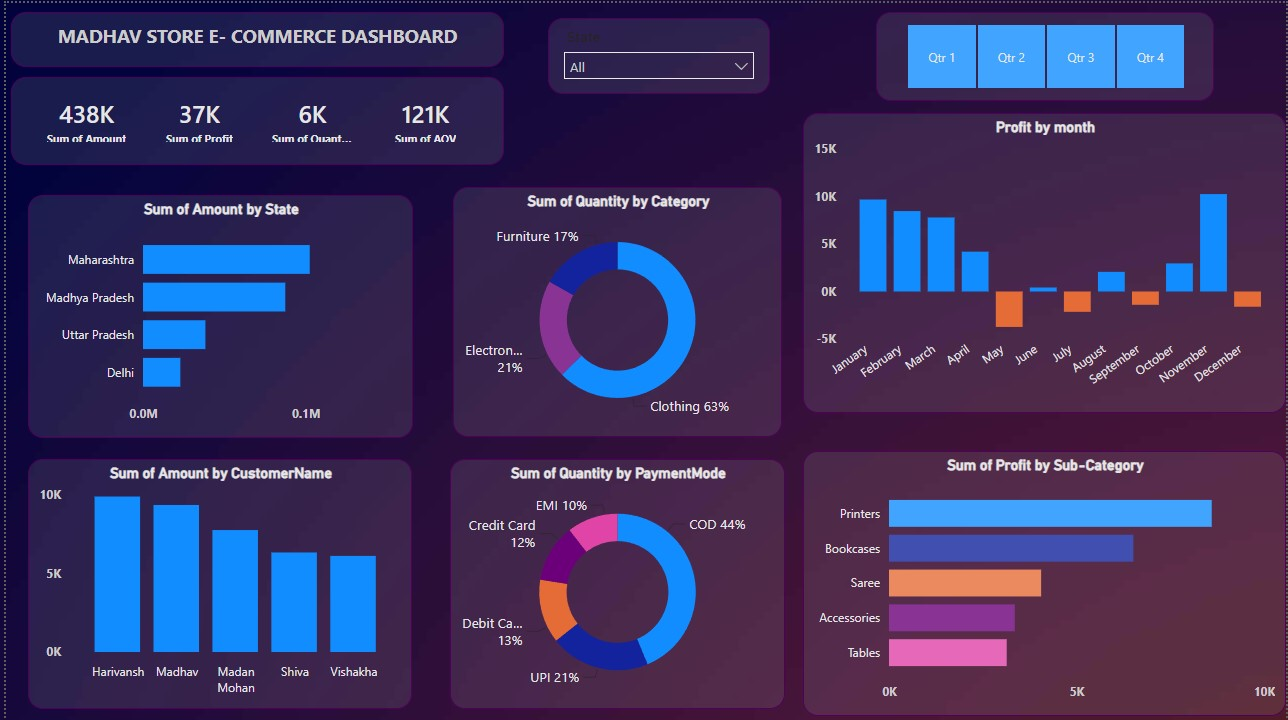

The dashboard page shown, as its layout file describes it:
{"tool":"powerbi","page":{"name":"Page 1","canvas":[1280,720],"ordinal":0},"visuals":[{"type":"textbox","box":[4.9,8.8,493.1,55.4],"z":0},{"type":"columnChart","title":"Profit by month","fields":{"Category":["Orders.Order Date.Variation.Date Hierarchy.Month"],"Y":["Sum(Details.Profit)"]},"box":[797.1,110,483.3,299.7],"z":1000},{"type":"barChart","fields":{"Category":["Details.Sub-Category"],"Y":["Sum(Details.Profit)"]},"box":[797.1,447.8,483.3,265.1],"z":2000},{"type":"donutChart","fields":{"Category":["Details.Category"],"Y":["Sum(Details.Quantity)"]},"box":[446.9,184.4,329,250],"z":3000},{"type":"donutChart","fields":{"Category":["Details.PaymentMode"],"Y":["Sum(Details.Quantity)"]},"box":[444.5,456.2,334.6,250],"z":4000},{"type":"cardVisual","fields":{"Data":["Sum(Details.Amount)","Sum(Details.Profit)","Sum(Details.Quantity)","Sum(Details.AOV)"]},"box":[4.9,73.9,493.1,88.5],"z":5000},{"type":"barChart","fields":{"Category":["Orders.State"],"Y":["Sum(Details.Amount)"]},"box":[22.4,191.6,384.2,243.2],"z":6000},{"type":"columnChart","fields":{"Category":["Orders.CustomerName"],"Y":["Sum(Details.Amount)"]},"box":[22,456,384,250],"z":7000},{"type":"slicer","fields":{"Values":["Orders.Order Date.Variation.Date Hierarchy.Quarter"]},"box":[869.5,8.8,338.5,89.5],"z":8000},{"type":"slicer","fields":{"Values":["Orders.State"]},"box":[541.8,14.6,222.7,76.8],"z":9000}]}

Visuals, with their boxes in screenshot pixels (x1, y1, x2, y2), scaled from the page's 1280x720 canvas onto the 1288x720 screenshot:
textbox: (5, 9, 501, 64)
"Profit by month" columnChart: (802, 110, 1287, 410)
barChart - Details.Sub-Category x Sum(Details.Profit): (802, 448, 1287, 713)
donutChart - Details.Category x Sum(Details.Quantity): (450, 184, 781, 434)
donutChart - Details.PaymentMode x Sum(Details.Quantity): (447, 456, 784, 706)
cardVisual - Sum(Details.Amount) x Sum(Details.Profit): (5, 74, 501, 162)
barChart - Orders.State x Sum(Details.Amount): (23, 192, 409, 435)
columnChart - Orders.CustomerName x Sum(Details.Amount): (22, 456, 409, 706)
slicer - Orders.Order Date.Variation.Date Hierarchy.Quarter: (875, 9, 1216, 98)
slicer - Orders.State: (545, 15, 769, 91)
